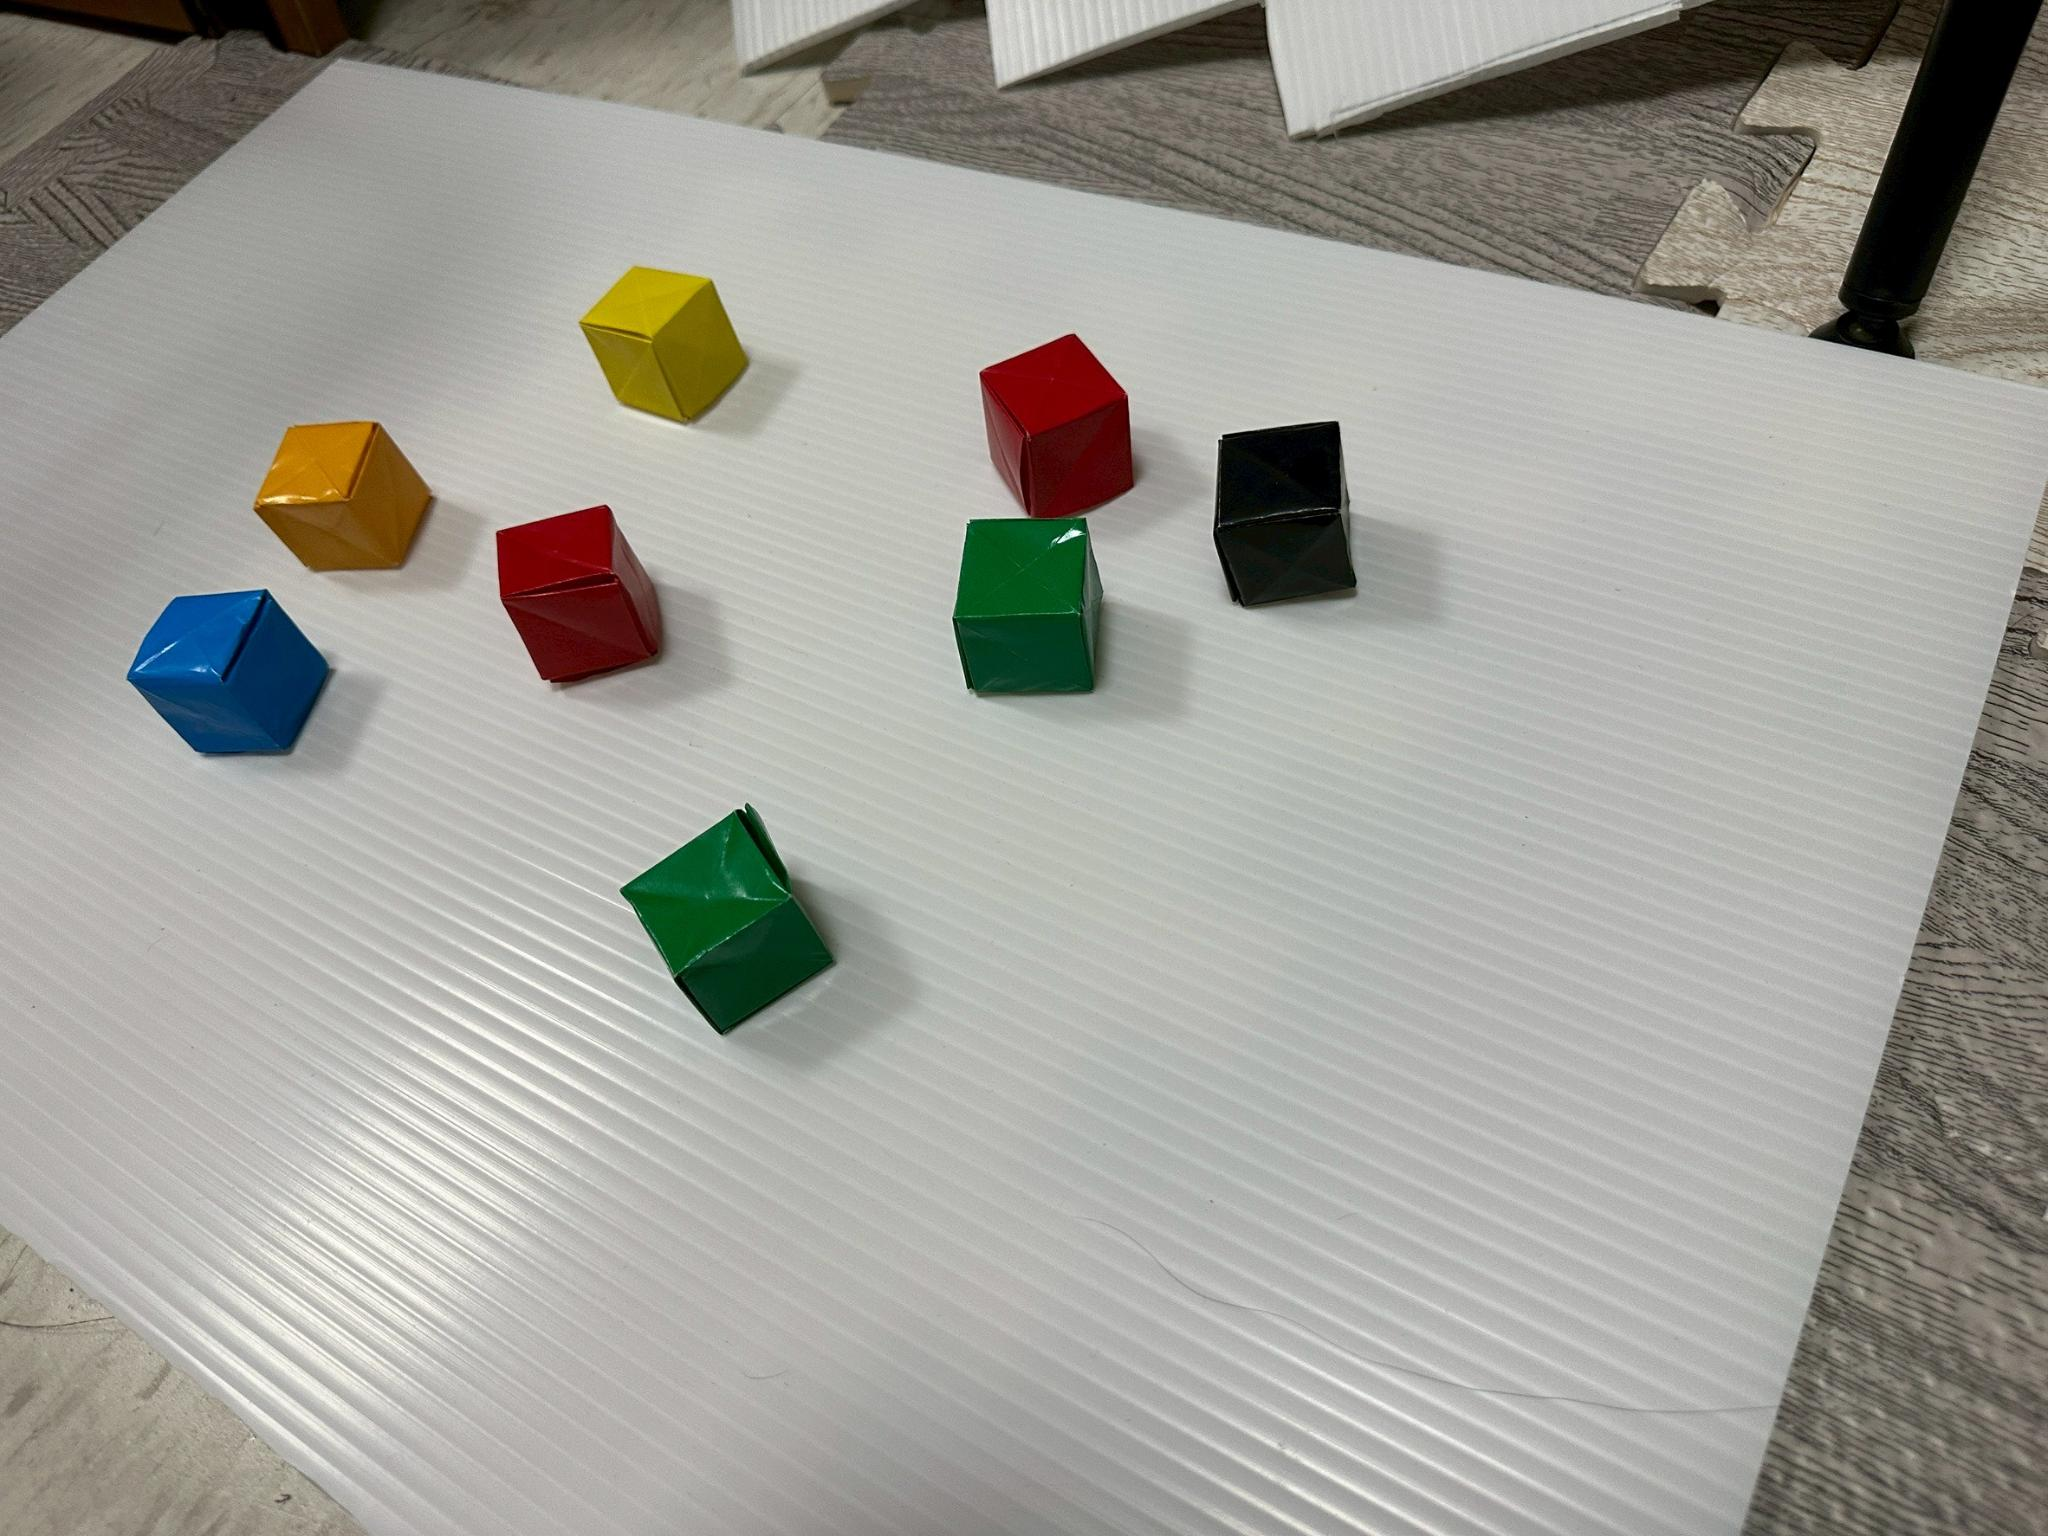cube: (624, 805, 832, 1034), (126, 591, 329, 753), (497, 507, 663, 684), (980, 334, 1134, 518), (1214, 423, 1356, 607), (253, 421, 429, 570), (579, 266, 747, 421), (953, 520, 1101, 694)
